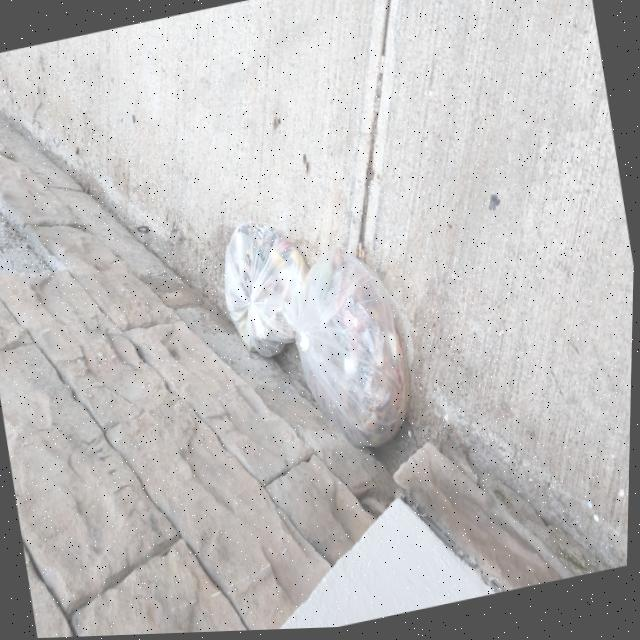Organic Waste -White Bag-: (275, 237, 426, 464), (214, 210, 328, 367)
